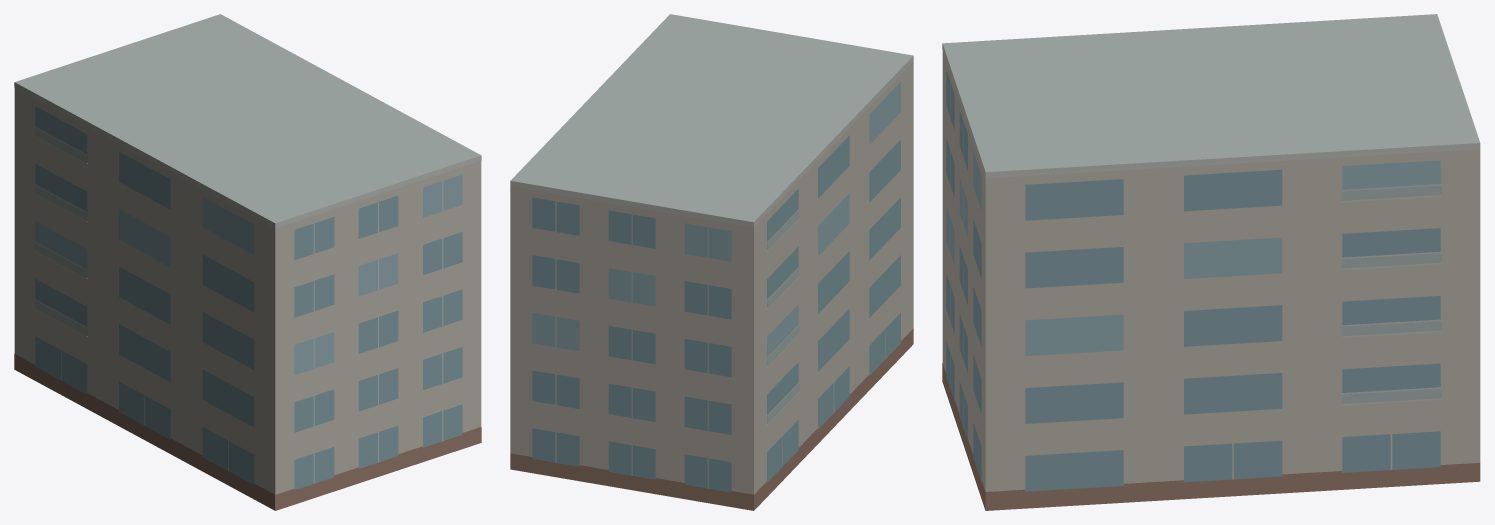
Rendered from survey-upis-32614619.glb.
3 renders of one model, left to right at view 1: azimuth 30°, elevation 25°; view 2: azimuth 150°, elevation 25°; view 3: azimuth 270°, elevation 25°, orthographic. The views are drawn at different scales.
Visible parts, largest first — view 1: survey-upis-32614619.tmp; view 2: survey-upis-32614619.tmp; view 3: survey-upis-32614619.tmp.
Part boxes in pixels (x1,y1,x2,y2): survey-upis-32614619.tmp: (14,14,481,510); survey-upis-32614619.tmp: (510,14,913,510); survey-upis-32614619.tmp: (942,14,1480,510).
Size of the model in its own units: 13.43 by 13.4 by 19.29.
